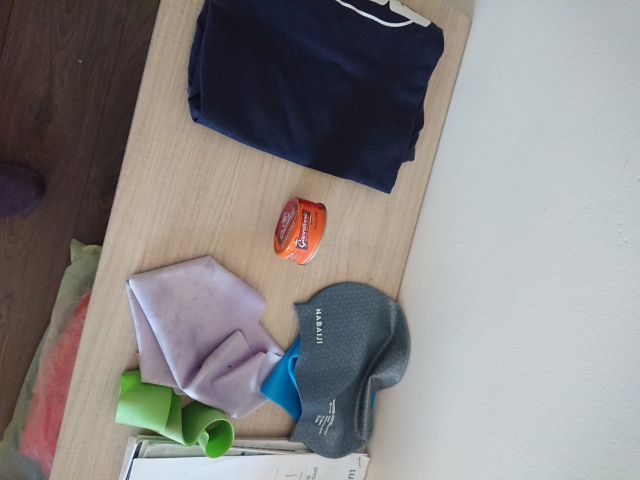Gavrilovic Pork Liver Pate 100g: (272, 194, 329, 267)
